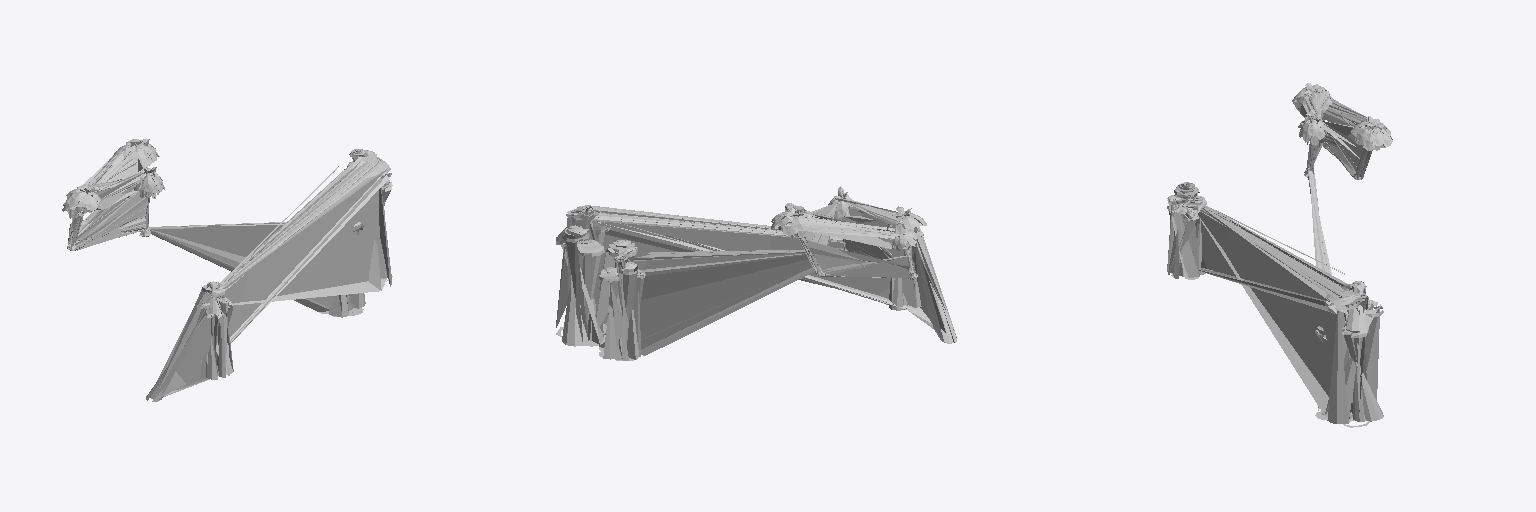
Rendered from cellWilds_SeaCliffs_Proxy-sharedassets3.assets-692.obj.
3 renders of one model, left to right at view 1: azimuth 30°, elevation 25°; view 2: azimuth 150°, elevation 25°; view 3: azimuth 270°, elevation 25°, orthographic.
Visible parts, largest first — view 1: cellWilds_SeaCliffs_Proxy_0, cellWilds_SeaCliffs_Proxy_1, cellWilds_SeaCliffs_Proxy_7, cellWilds_SeaCliffs_Proxy_2; view 2: cellWilds_SeaCliffs_Proxy_0, cellWilds_SeaCliffs_Proxy_1, cellWilds_SeaCliffs_Proxy_2, cellWilds_SeaCliffs_Proxy_7; view 3: cellWilds_SeaCliffs_Proxy_0, cellWilds_SeaCliffs_Proxy_1, cellWilds_SeaCliffs_Proxy_7, cellWilds_SeaCliffs_Proxy_2.
Part boxes in pixels (x1,y1,x2,y2): cellWilds_SeaCliffs_Proxy_0: (63,139,392,401); cellWilds_SeaCliffs_Proxy_1: (63,140,164,242); cellWilds_SeaCliffs_Proxy_7: (62,139,164,218); cellWilds_SeaCliffs_Proxy_2: (63,139,156,217); cellWilds_SeaCliffs_Proxy_0: (556,187,956,360); cellWilds_SeaCliffs_Proxy_1: (772,188,923,277); cellWilds_SeaCliffs_Proxy_2: (774,203,914,250); cellWilds_SeaCliffs_Proxy_7: (771,186,926,250); cellWilds_SeaCliffs_Proxy_0: (1167,83,1392,427); cellWilds_SeaCliffs_Proxy_1: (1292,84,1388,179); cellWilds_SeaCliffs_Proxy_7: (1295,83,1391,150); cellWilds_SeaCliffs_Proxy_2: (1322,99,1392,150).
Size of the model in its own units: 104 by 58.11 by 58.88.